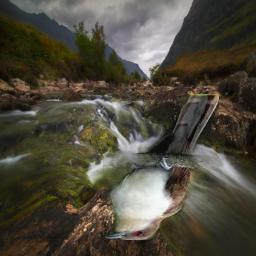Cuckoo: (103, 94, 219, 240)
